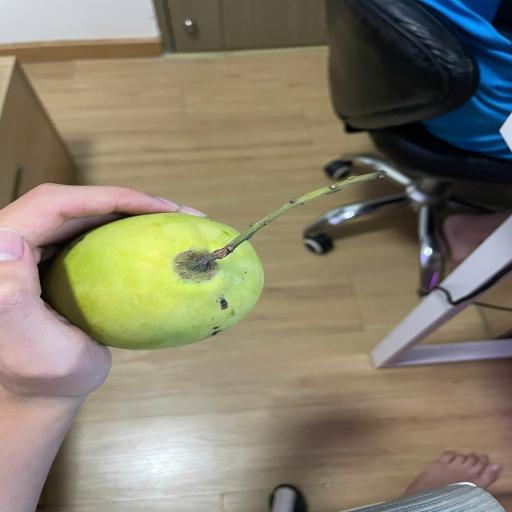xoai: (42, 180, 350, 350)
